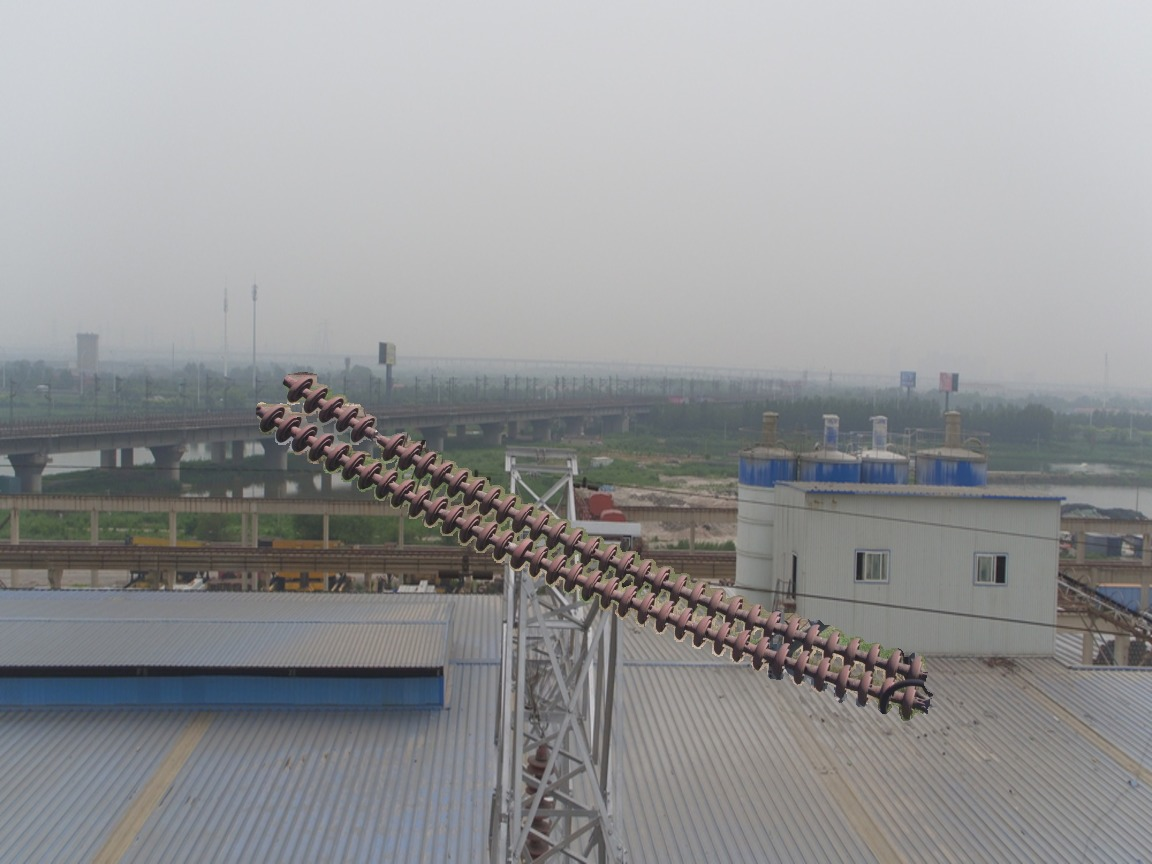defect: (347, 414, 407, 461)
